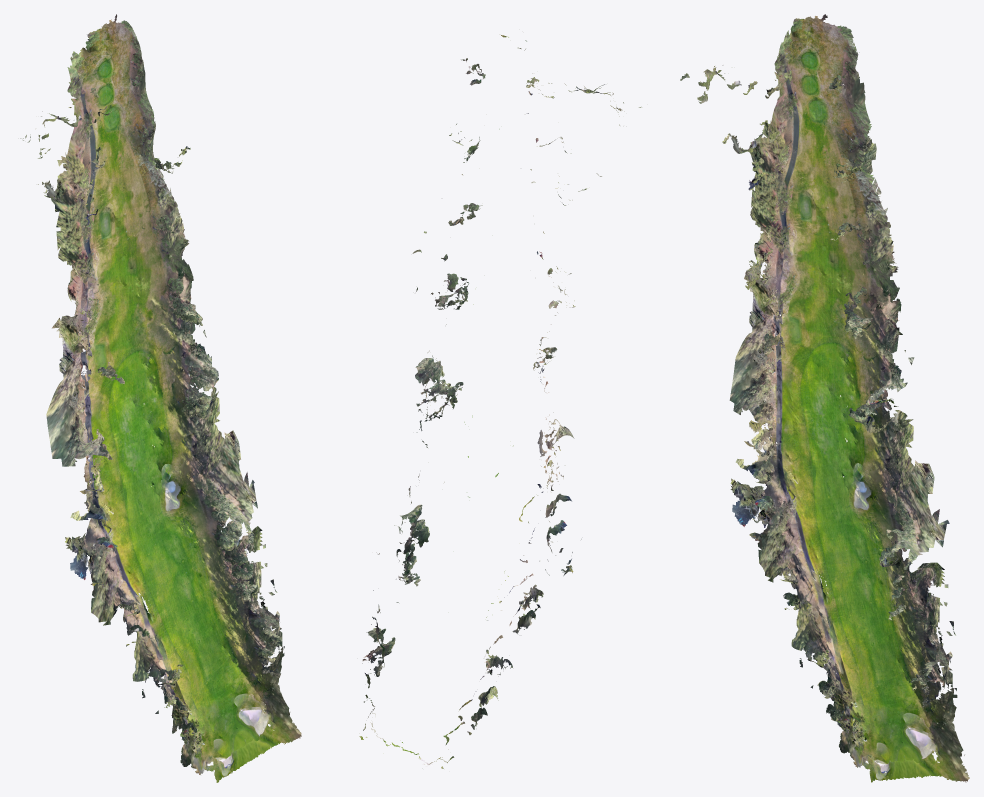
3 renders of one model, left to right at view 1: azimuth 30°, elevation 25°; view 2: azimuth 150°, elevation 25°; view 3: azimuth 330°, elevation 25°, orthographic. The views are drawn at different scales.
Bounding box in the file's own units: 150 × 375 × 38.84.
23 materials, 23 textured.
